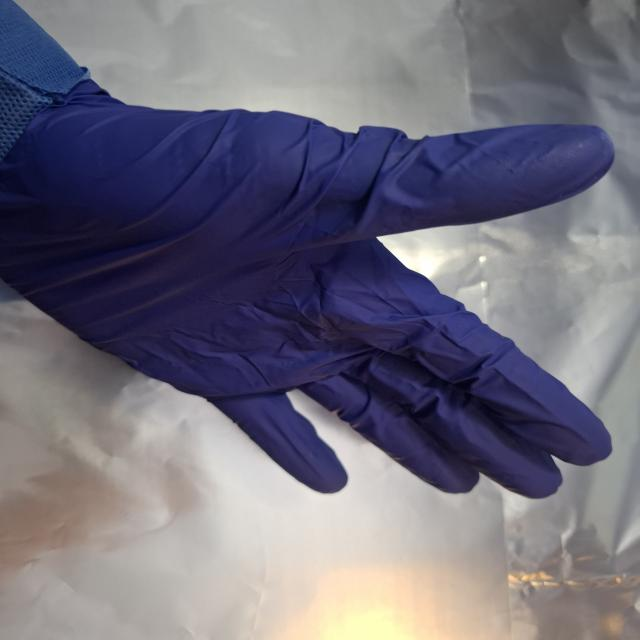glove_on: (1, 71, 618, 501)
